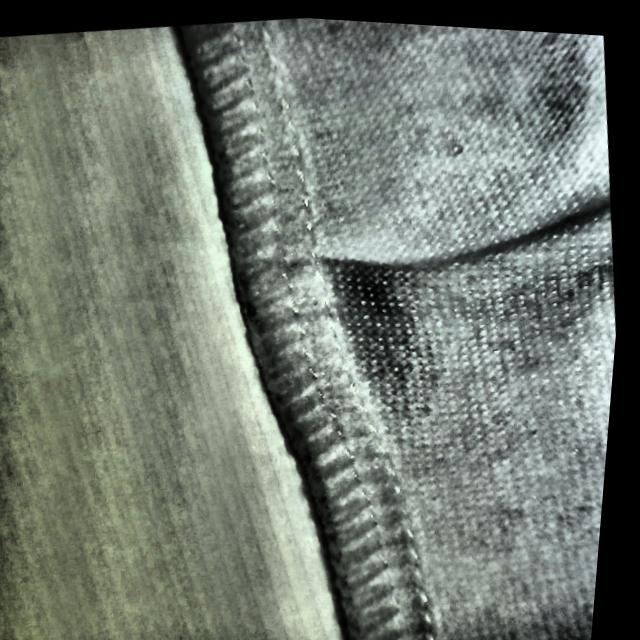seam: (214, 158, 591, 382)
